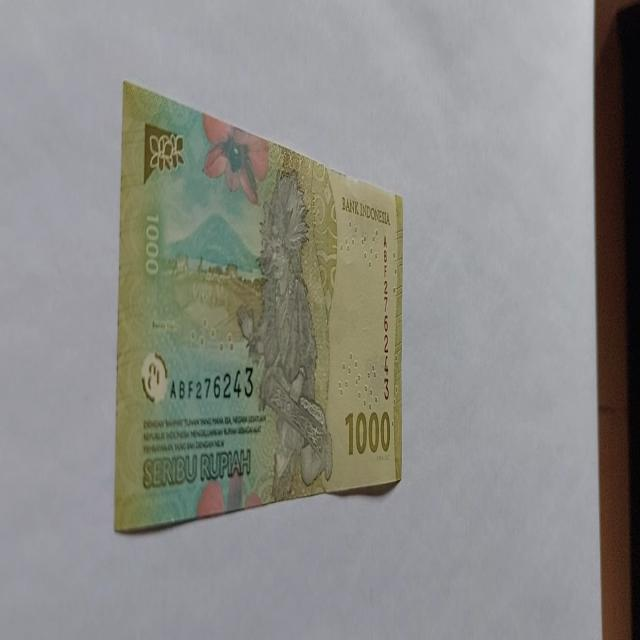seribu rupiah kertas: (113, 79, 404, 533), (236, 167, 333, 501)
